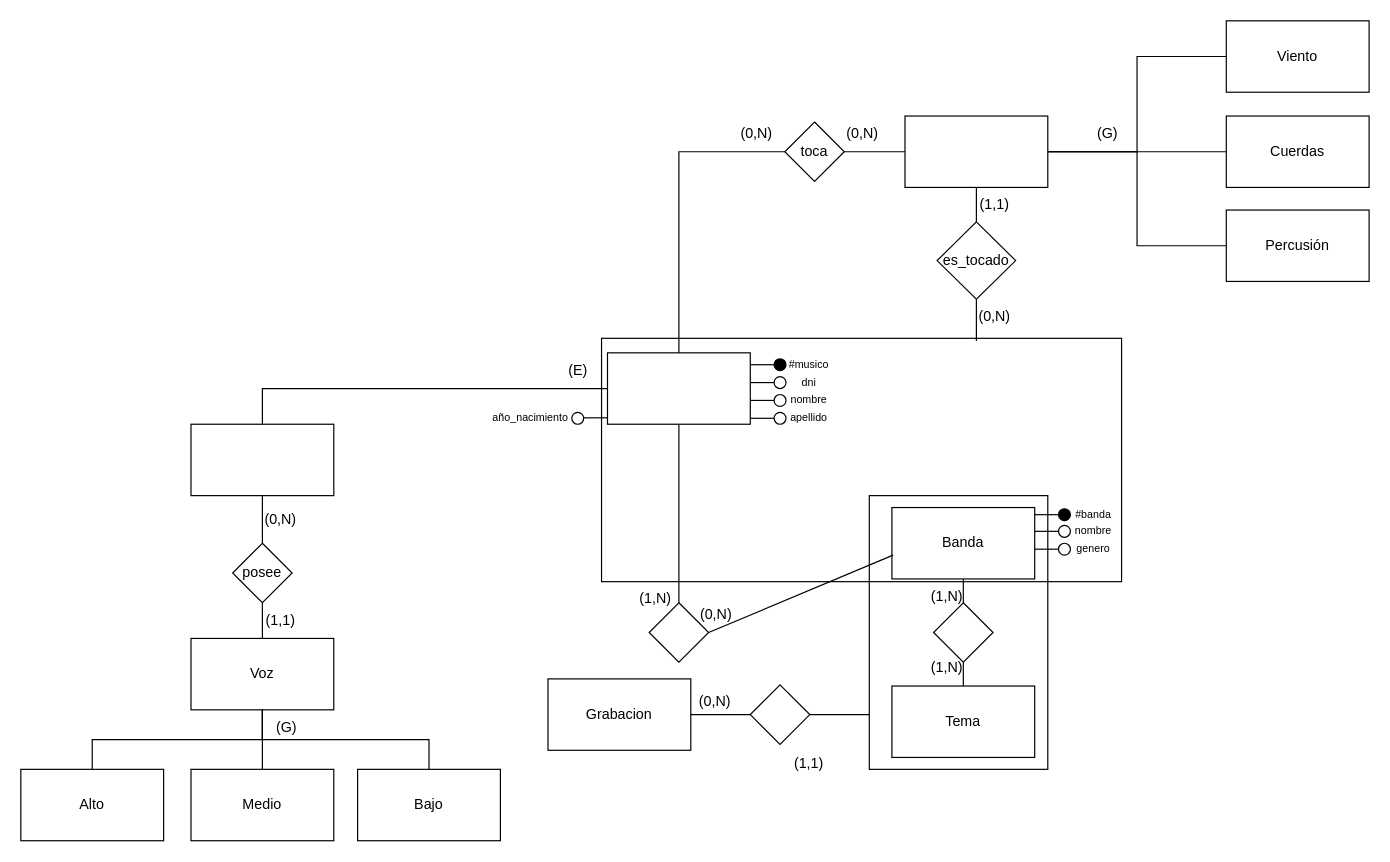
This 1390x862 diagram has some shape labels left out. Each missing label, with the centre of its shape:
"Cantante" belongs at (x=262, y=459).
"compone" belongs at (x=962, y=632).
"Instrumento" belongs at (x=976, y=151).
"integran" belongs at (x=678, y=632).
"Musico" belongs at (x=678, y=388).
"solicita" belongs at (x=779, y=714).
